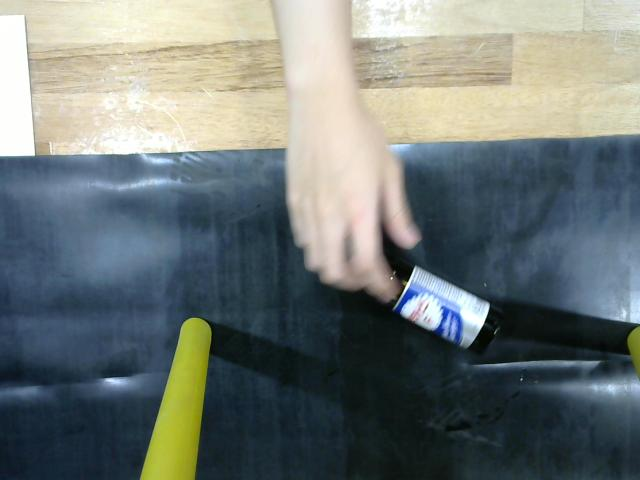glass: (360, 230, 509, 366)
